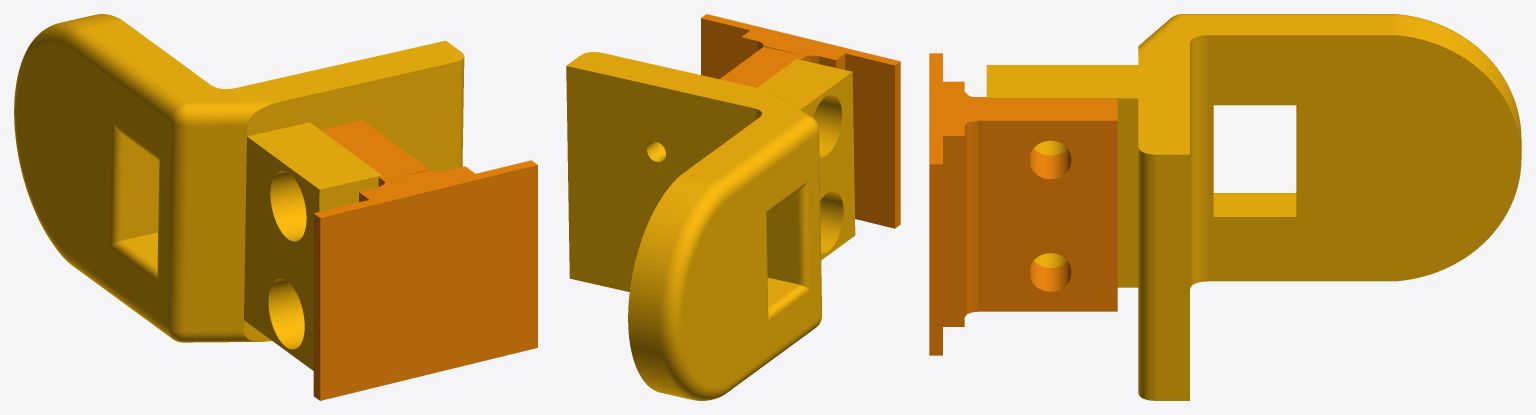
Rendered from digit_finger.obj.
3 renders of one model, left to right at view 1: azimuth 30°, elevation 25°; view 2: azimuth 150°, elevation 25°; view 3: azimuth 270°, elevation 25°, orthographic. The views are drawn at different scales.
Parts seen in each view (by area): view 1: mesh63, mesh41, mesh24, mesh28, mesh10, mesh11, mesh25, mesh22, mesh19, mesh39, mesh51, mesh68 (+13 smaller); view 2: mesh3, mesh41, mesh11, mesh12, mesh61, mesh14, mesh28, mesh19, mesh38, mesh25, mesh68, mesh65 (+10 smaller); view 3: mesh36, mesh47, mesh11, mesh4, mesh25, mesh6, mesh5, mesh32, mesh66, mesh51, mesh68, mesh64 (+8 smaller).
Part boxes in pixels (<box>): mesh63: <box>320,165,537,400</box>; mesh41: <box>17,45,170,325</box>; mesh24: <box>186,127,246,330</box>; mesh28: <box>244,137,319,370</box>; mesh10: <box>310,62,453,171</box>; mesh11: <box>88,20,464,101</box>; mesh25: <box>247,122,381,189</box>; mesh22: <box>167,123,189,330</box>; mesh19: <box>71,27,187,122</box>; mesh39: <box>123,136,159,239</box>; mesh51: <box>321,120,429,180</box>; mesh68: <box>314,160,537,217</box>; mesh3: <box>566,66,752,291</box>; mesh41: <box>682,136,819,386</box>; mesh11: <box>566,52,800,181</box>; mesh12: <box>628,175,710,398</box>; mesh61: <box>845,53,894,228</box>; mesh14: <box>658,182,729,400</box>; mesh28: <box>801,72,855,259</box>; mesh19: <box>711,116,816,200</box>; mesh38: <box>766,192,798,284</box>; mesh25: <box>757,59,851,109</box>; mesh68: <box>701,14,900,65</box>; mesh65: <box>701,18,749,78</box>; mesh36: <box>1210,35,1521,281</box>; mesh47: <box>978,120,1117,311</box>; mesh11: <box>1138,17,1394,154</box>; mesh4: <box>1159,154,1189,400</box>; mesh25: <box>986,65,1138,98</box>; mesh6: <box>1190,35,1210,288</box>; mesh5: <box>1138,147,1158,400</box>; mesh32: <box>986,98,1138,287</box>; mesh66: <box>943,136,964,326</box>; mesh51: <box>976,97,1117,120</box>; mesh68: <box>929,53,972,164</box>; mesh64: <box>929,164,942,355</box>.
Size of the model in its own units: 0.0328 by 0.027 by 0.0573.
